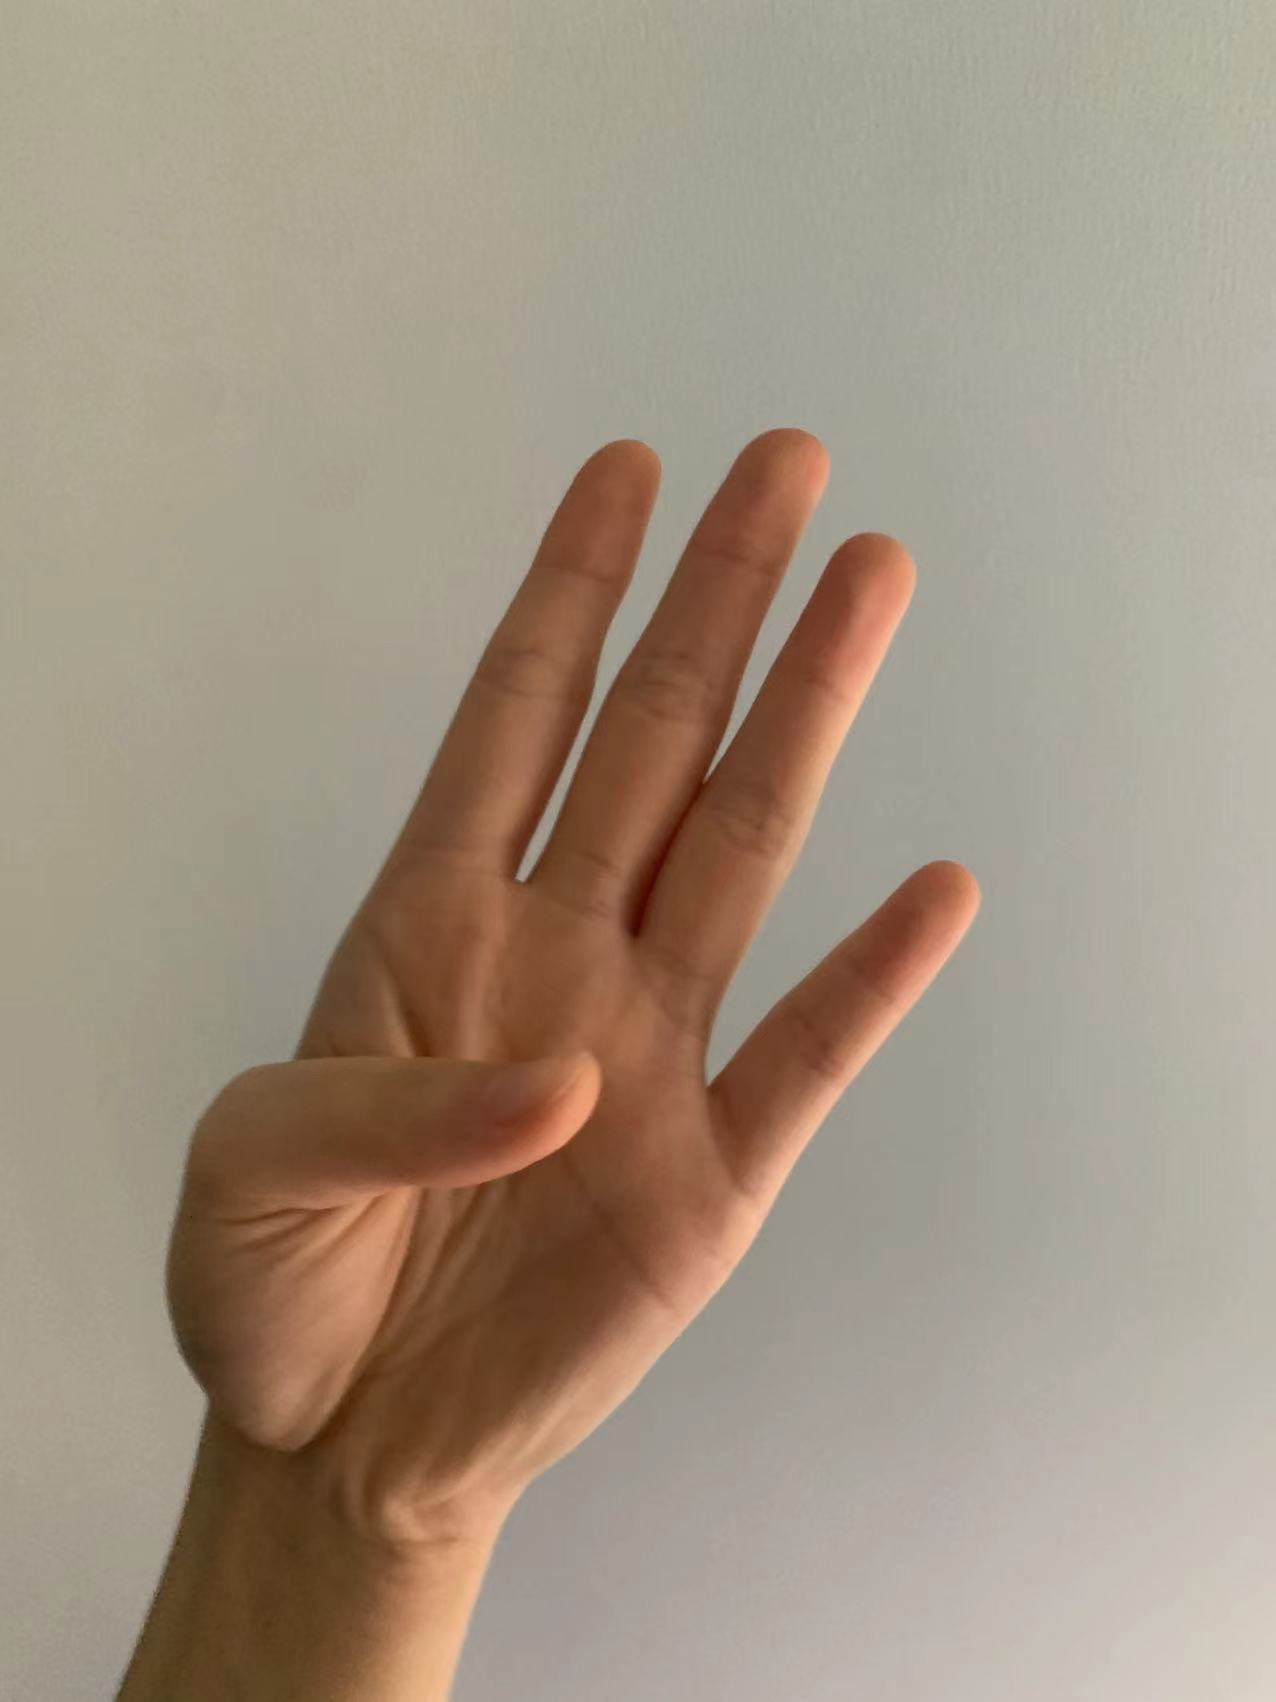right: (139, 389, 993, 1453)
